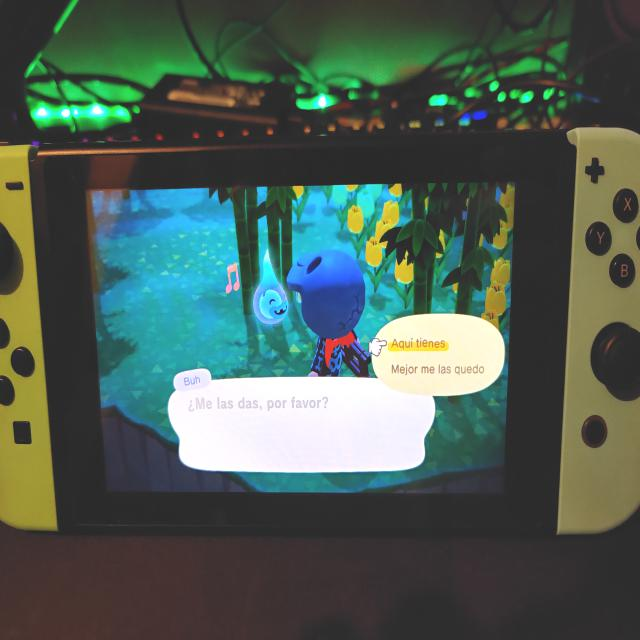text_bubble: (167, 367, 438, 475), (369, 311, 509, 399)
